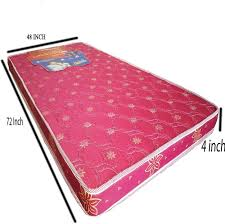bed-matress: (7, 41, 221, 218)
